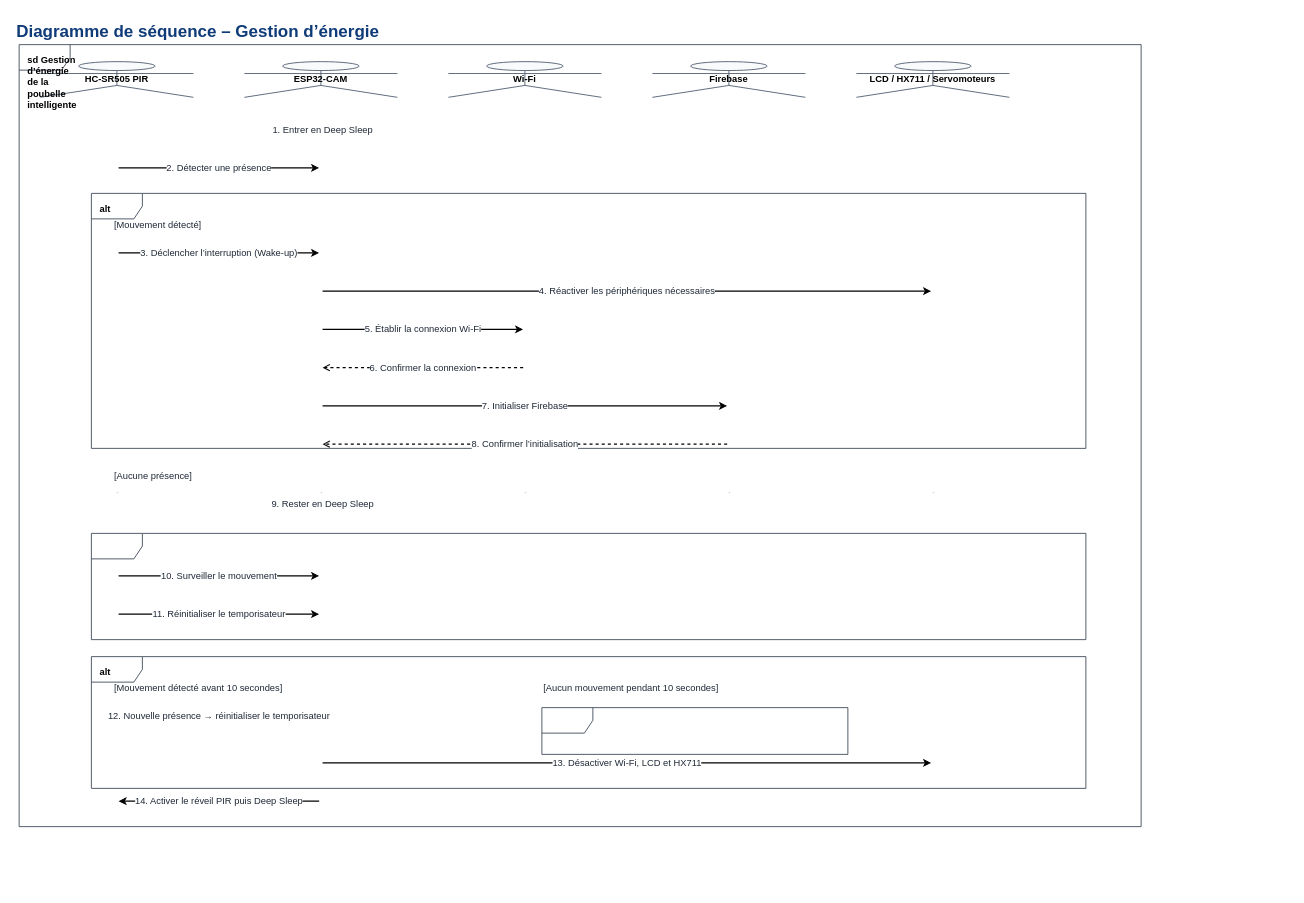
This 1304x903 diagram has some shape labels left out. Here are the shapes that lost their labels. From the top down, the centre of each, then its label:
At point 588,586: "loop [tant que la présence est détectée]".
At point 694,730: "ref Préparer le retour en Deep Sleep".
